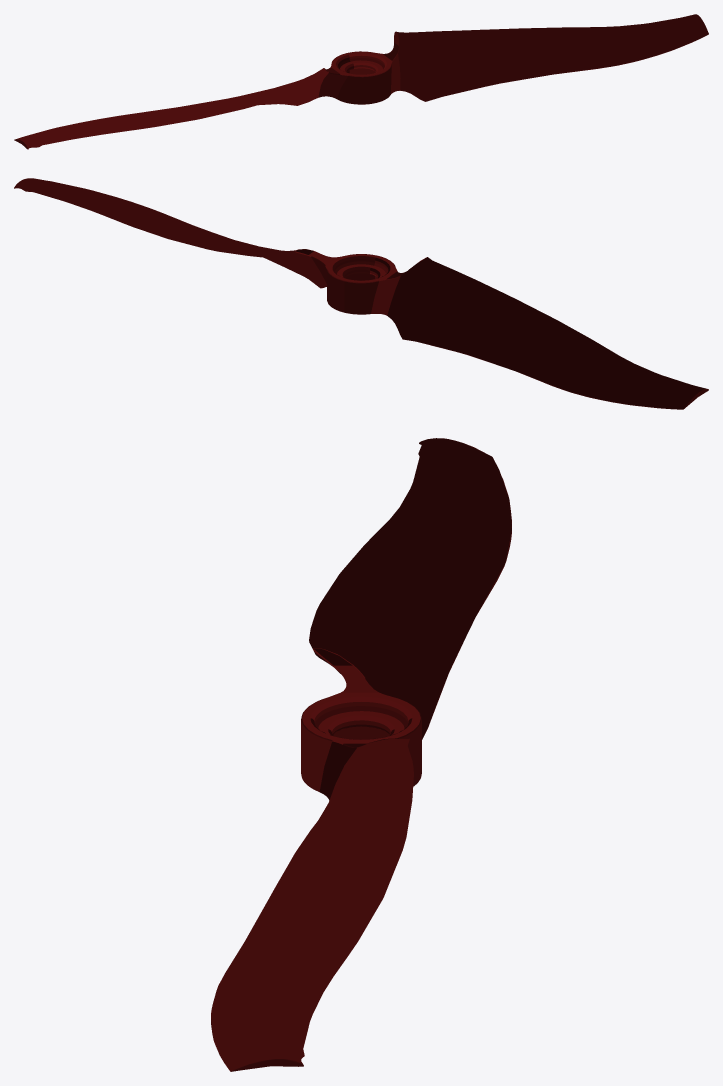
The model's file is default_propeller_1.5x0.75_ccw.dae.
The picture shows the model from 3 angles, top to bottom: view 1: azimuth 30°, elevation 25°; view 2: azimuth 150°, elevation 25°; view 3: azimuth 270°, elevation 25°; orthographic projection. The views are drawn at different scales.
Parts seen in each view (by area): view 1: node0; view 2: node0; view 3: node0.
Boxes of the visible parts, x1,y1,x2,y2 form: node0: (14, 14, 708, 149); node0: (14, 178, 708, 409); node0: (211, 438, 511, 1071).
Size of the model in its own units: 37.98 by 7.77 by 2.98.
